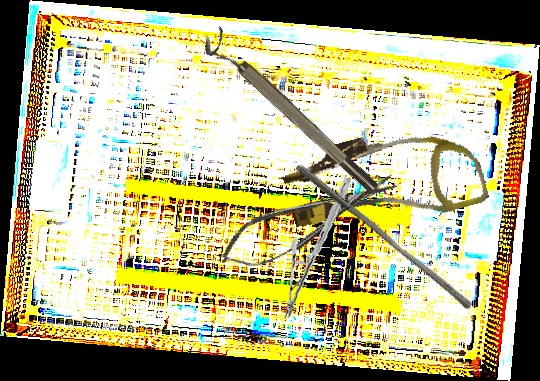Cannula: (278, 109, 490, 251)
Fixation Ring: (198, 25, 383, 204)
Micro Scissor: (211, 163, 407, 279)
Needle Holder: (272, 177, 363, 319)
Pusher: (289, 162, 479, 311)
